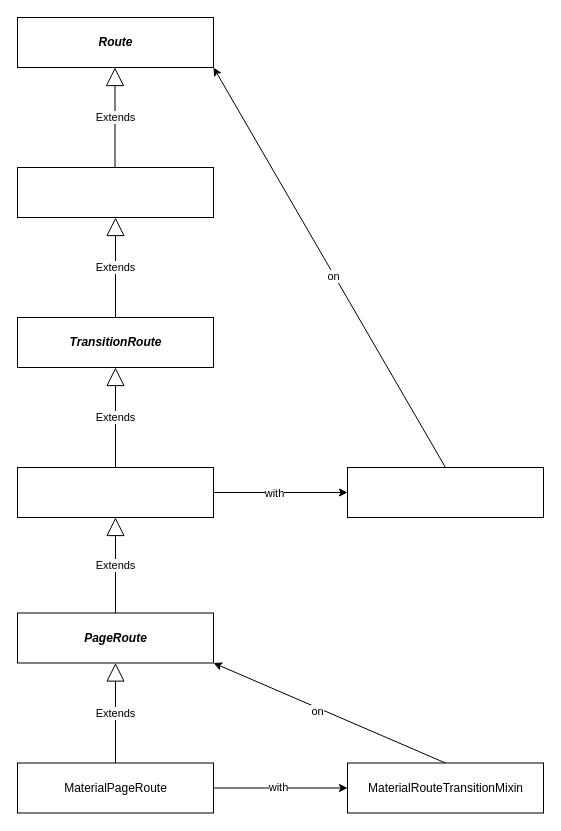
The diagram is 561 pixels wide and 831 high, and some of its shapes have lost their labels. The centre of each missing label's shape, as x and y in pixels:
LocalHistoryRoute: (x=445, y=492)
ModalRoute: (x=115, y=492)
OverlayRoute: (x=115, y=192)
